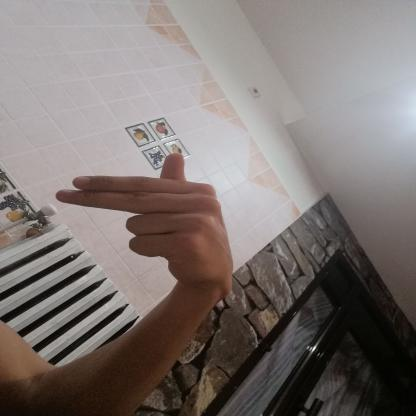GHAYN: (42, 143, 244, 297)
